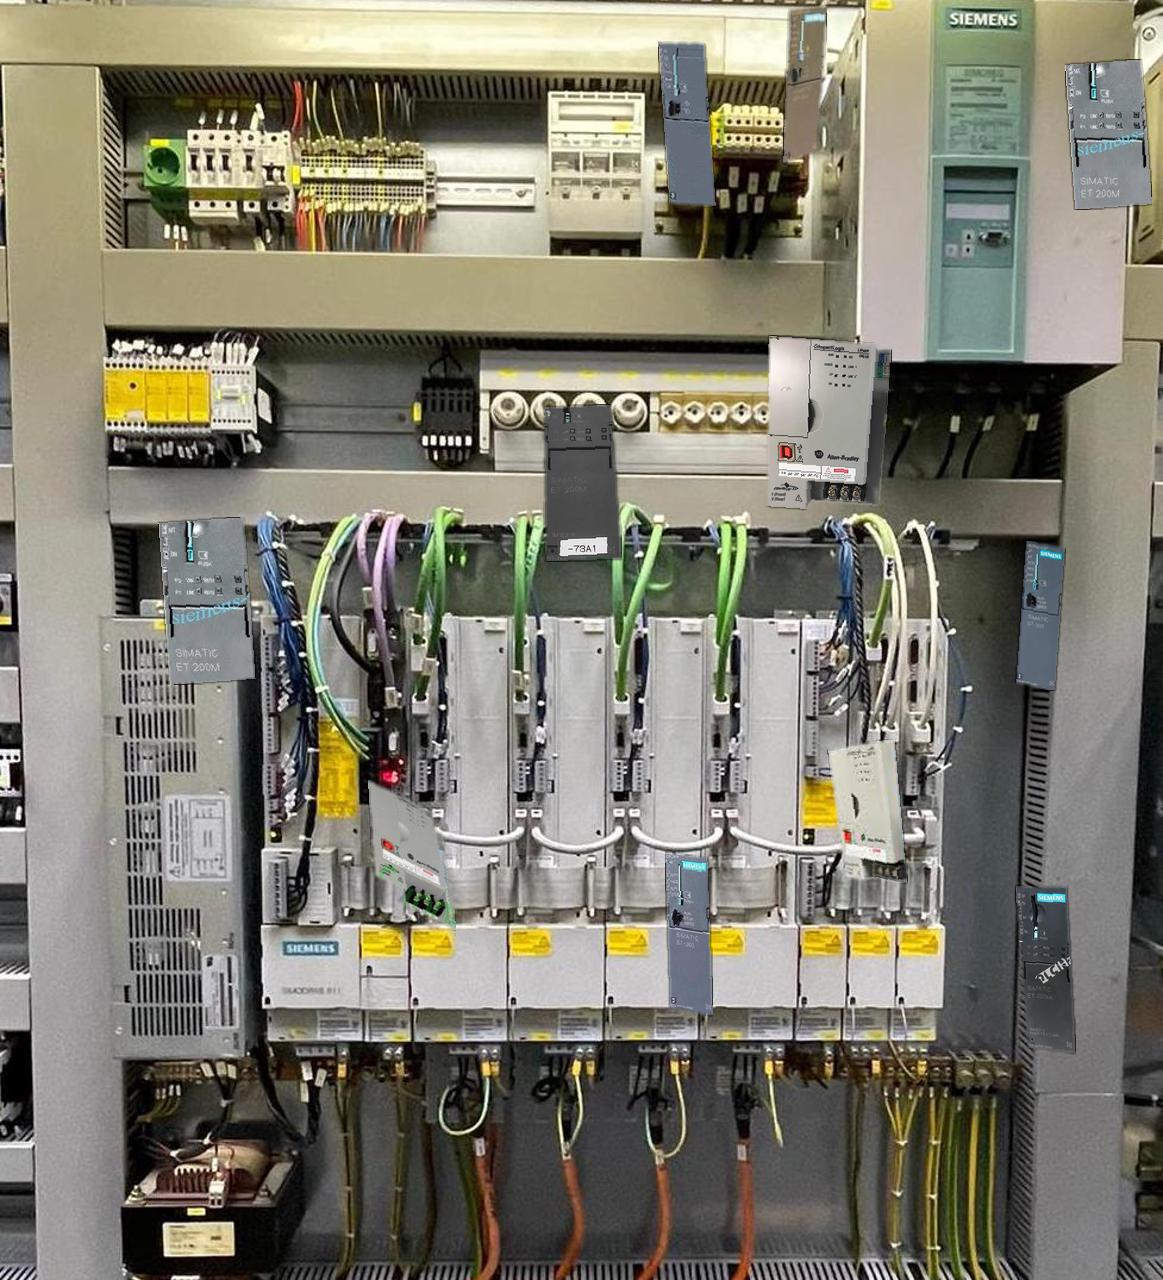AllenBradley: (767, 336, 890, 508), (368, 780, 455, 929), (828, 741, 907, 882)
Siemens: (658, 43, 715, 205), (665, 853, 713, 1014), (1016, 541, 1064, 689), (783, 6, 826, 162)
